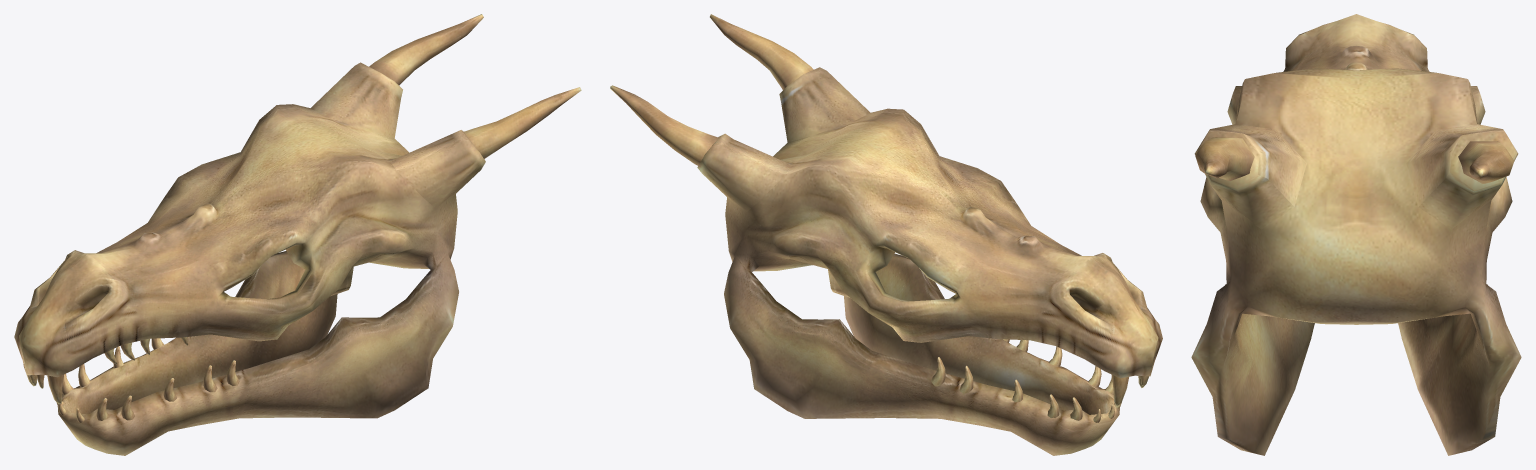
File: Skull_01.FBX
3 renders of one model, left to right at view 1: azimuth 30°, elevation 25°; view 2: azimuth 150°, elevation 25°; view 3: azimuth 270°, elevation 25°, orthographic. The views are drawn at different scales.
Parts seen in each view (by area): view 1: Skull_01; view 2: Skull_01; view 3: Skull_01.
Boxes of the visible parts, box(x1,y1,x2,y2) form: Skull_01: box(14, 14, 581, 455); Skull_01: box(610, 14, 1162, 455); Skull_01: box(1191, 14, 1521, 455).
Size of the model in its own units: 58.72 by 33.05 by 24.16.
